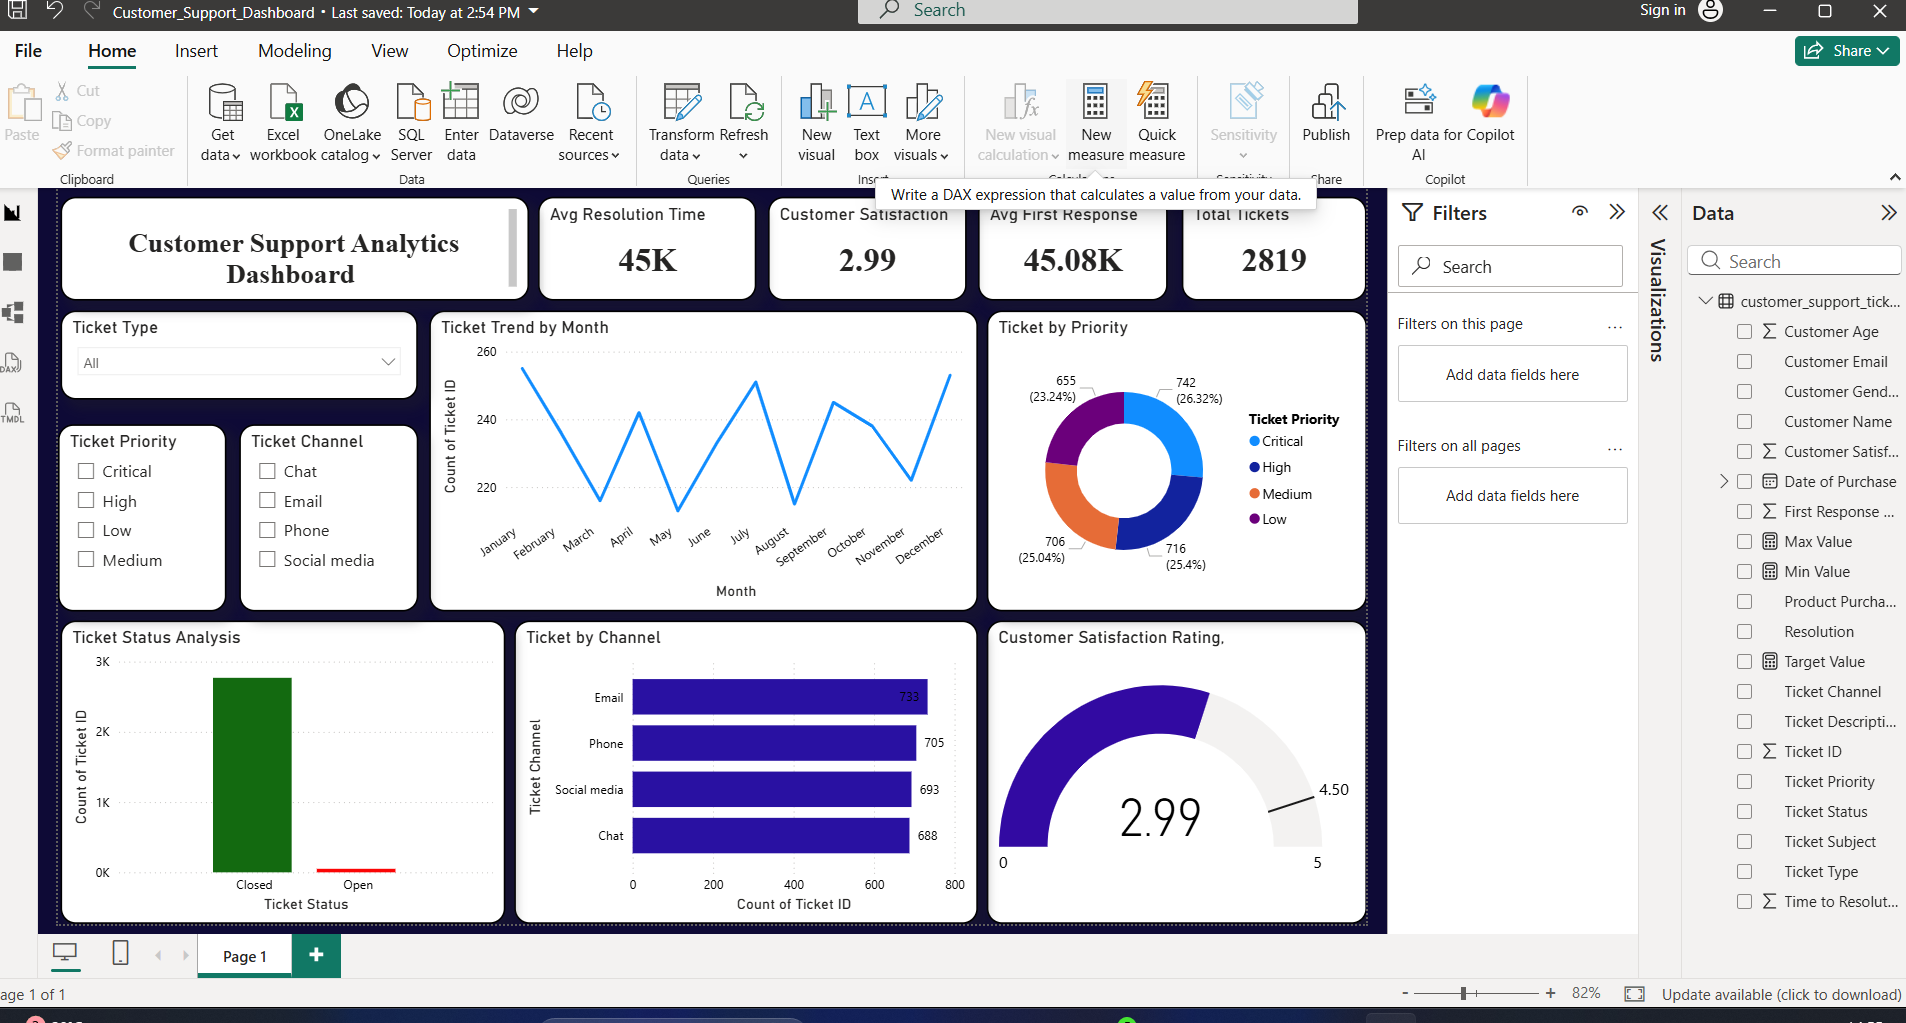

The page's visual inventory and layout, read from the dashboard file:
{"tool":"powerbi","page":{"name":"Page 1","canvas":[1280,720],"ordinal":0},"visuals":[{"type":"gauge","title":" Customer Satisfaction Rating, ","fields":{"Y":["Avg(customer_support_tickets.Customer Satisfaction Rating)"],"MinValue":["customer_support_tickets.Min Value"],"MaxValue":["customer_support_tickets.Max Value"],"TargetValue":["customer_support_tickets.Target Value"]},"box":[908.6,423.1,371.7,297.1],"z":0},{"type":"card","title":"Total Tickets","fields":{"Values":["CountNonNull(customer_support_tickets.Ticket ID)"]},"box":[1099.3,8.6,181,101.5],"z":1},{"type":"card","title":"Avg First Response","fields":{"Values":["Min(customer_support_tickets.First Response Time)"]},"box":[900,8.6,185.9,101.5],"z":2},{"type":"card","title":"Customer Satisfaction","fields":{"Values":["Avg(customer_support_tickets.Customer Satisfaction Rating)"]},"box":[694.6,8.6,194.4,101.5],"z":3},{"type":"card","title":"Avg Resolution Time","fields":{"Values":["Min(customer_support_tickets.Time to Resolution)"]},"box":[469.6,8.6,214,101.5],"z":4},{"type":"lineChart","title":"Ticket Trend by Month","fields":{"Category":["customer_support_tickets.Date of Purchase.Variation.Date Hierarchy.Month"],"Y":["CountNonNull(customer_support_tickets.Ticket ID)"]},"box":[363.2,119.8,536.8,294.7],"z":5},{"type":"donutChart","title":" Ticket  by  Priority","fields":{"Category":["customer_support_tickets.Ticket Priority"],"Y":["CountNonNull(customer_support_tickets.Ticket ID)"]},"box":[908.6,119.8,371.7,294.7],"z":6},{"type":"barChart","title":"Ticket  by  Channel","fields":{"Category":["customer_support_tickets.Ticket Channel"],"Y":["CountNonNull(customer_support_tickets.Ticket ID)"]},"box":[446.3,423.1,453.7,297.1],"z":7},{"type":"columnChart","title":" Ticket Status Analysis","fields":{"Category":["customer_support_tickets.Ticket Status"],"Y":["CountNonNull(customer_support_tickets.Ticket ID)"]},"box":[2.4,422.8,435.3,297.1],"z":8},{"type":"slicer","title":"Ticket Priority","fields":{"Values":["customer_support_tickets.Ticket Priority"]},"box":[0,231.1,165.1,183.4],"z":9},{"type":"slicer","title":"Ticket Type","fields":{"Values":["customer_support_tickets.Ticket Type"]},"box":[2.4,119.8,349.7,86.8],"z":10},{"type":"slicer","title":"Ticket Channel","fields":{"Values":["customer_support_tickets.Ticket Channel"]},"box":[177.3,231.1,174.9,183.4],"z":11},{"type":"textbox","box":[2.4,8.6,458.6,101.5],"z":12}]}

Visuals, with their boxes on the page's 1280x720 design canvas (x1, y1, x2, y2). These are canvas units, not pixel positions in the 1906x1023 screenshot, which may show the page scaled, cropped or inside an application window:
" Customer Satisfaction Rating, " gauge: BBox(909, 423, 1280, 720)
"Total Tickets" card: BBox(1099, 9, 1280, 110)
"Avg First Response" card: BBox(900, 9, 1086, 110)
"Customer Satisfaction" card: BBox(695, 9, 889, 110)
"Avg Resolution Time" card: BBox(470, 9, 684, 110)
"Ticket Trend by Month" lineChart: BBox(363, 120, 900, 414)
" Ticket  by  Priority" donutChart: BBox(909, 120, 1280, 414)
"Ticket  by  Channel" barChart: BBox(446, 423, 900, 720)
" Ticket Status Analysis" columnChart: BBox(2, 423, 438, 720)
"Ticket Priority" slicer: BBox(0, 231, 165, 414)
"Ticket Type" slicer: BBox(2, 120, 352, 207)
"Ticket Channel" slicer: BBox(177, 231, 352, 414)
textbox: BBox(2, 9, 461, 110)
